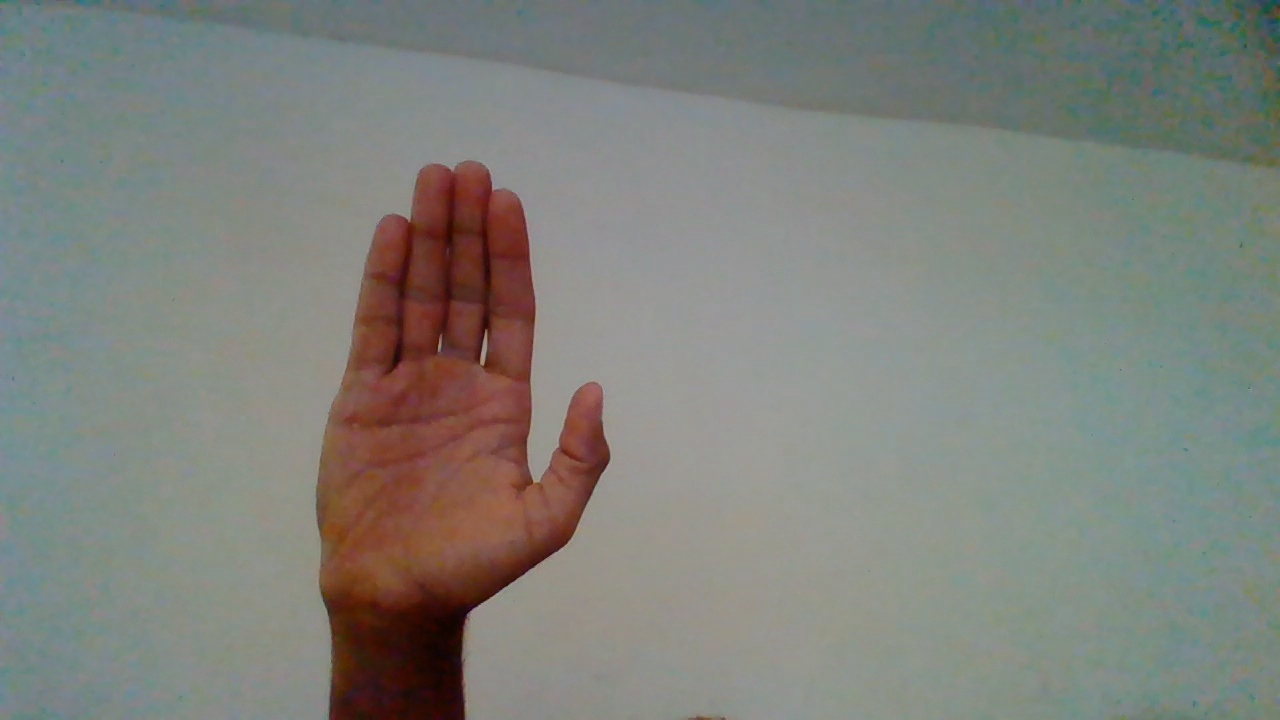ha: (310, 152, 613, 706)
